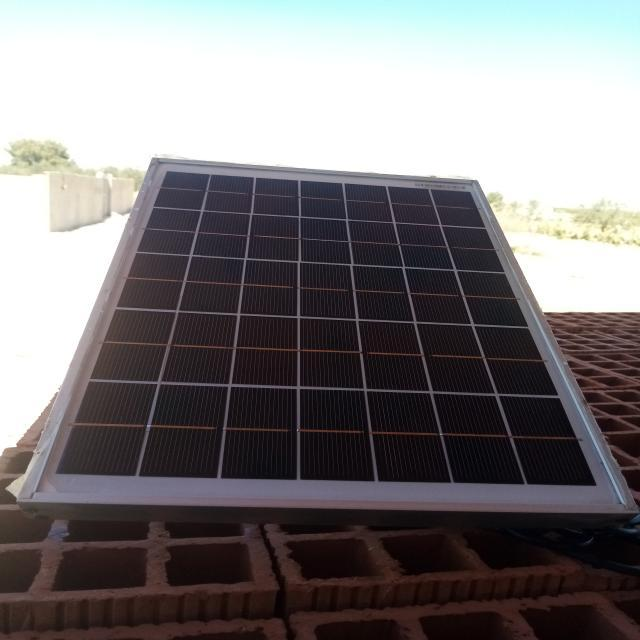no faulty: (21, 160, 638, 514)
